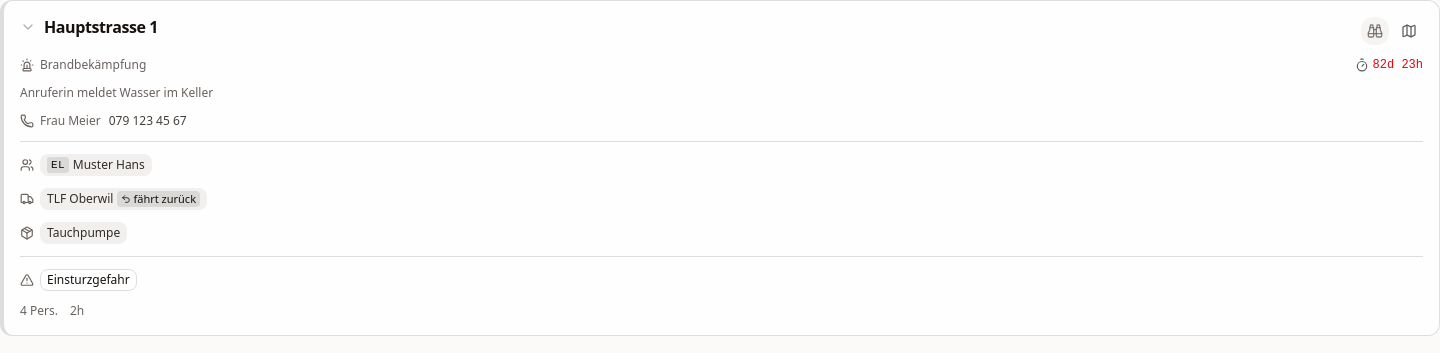
Test case: a chip on a touch screen › offers no promotion on whoever already is the Einsatzleiter
This screenshot has width=1440, height=353.
Click the button "EL Muster Hans": (96,165) [40,154,152,176]
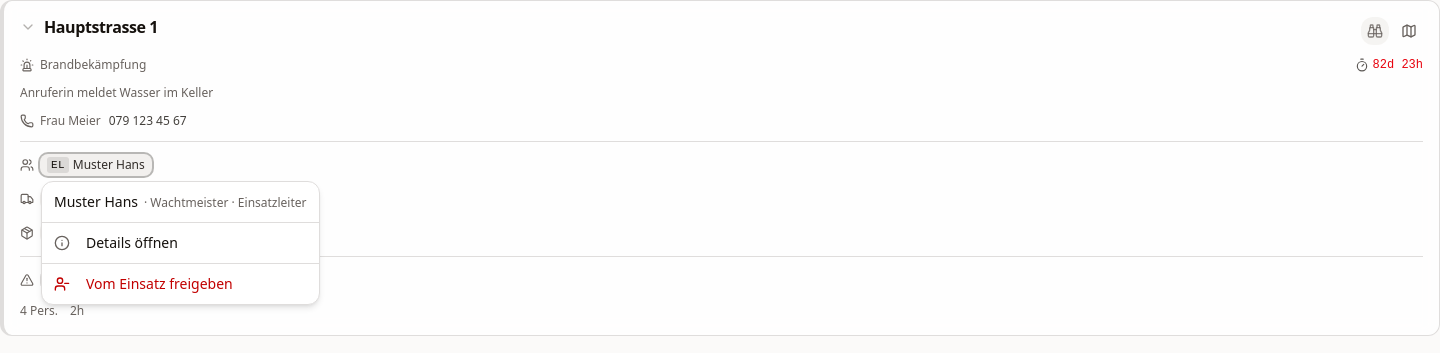
Now the menu "Muster Hans" is shown, box [41,181,320,305]
